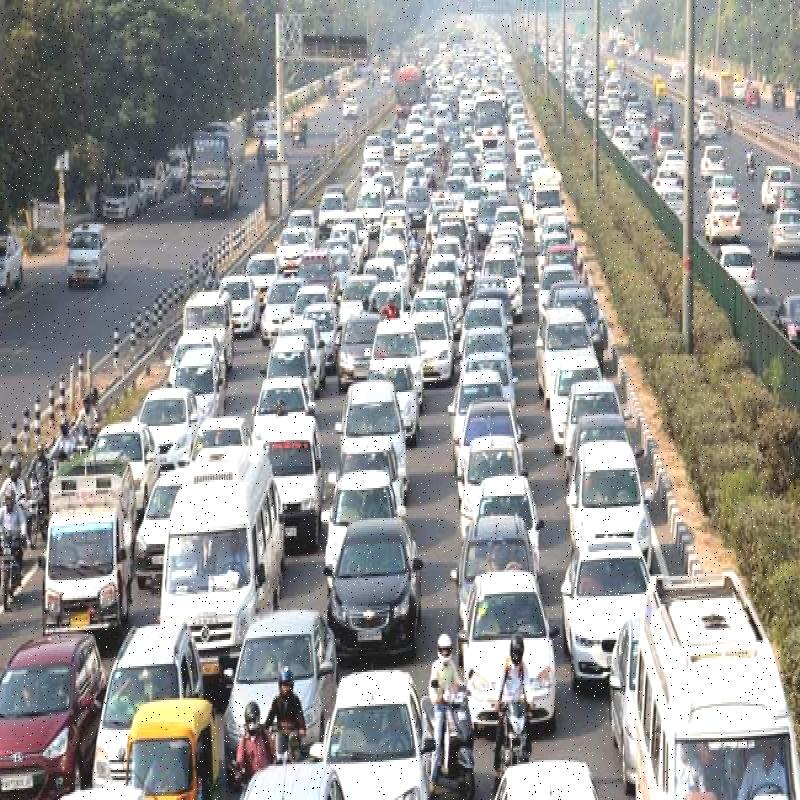auto: (133, 698, 217, 800)
bike: (432, 684, 480, 798), (495, 686, 528, 770)
car: (156, 468, 278, 645), (0, 616, 97, 800), (0, 638, 101, 800), (328, 513, 428, 660), (462, 568, 554, 722), (236, 418, 329, 552), (338, 654, 421, 800), (559, 531, 641, 677), (40, 466, 117, 616), (567, 450, 647, 575), (319, 458, 398, 566), (254, 422, 328, 536), (490, 734, 598, 800), (343, 384, 398, 507), (448, 516, 522, 596), (453, 386, 514, 483), (133, 390, 197, 476), (468, 460, 536, 539), (535, 315, 593, 402), (548, 358, 603, 449), (245, 368, 307, 435), (565, 382, 615, 453), (365, 362, 421, 420), (409, 306, 448, 389), (332, 309, 374, 379), (228, 277, 253, 342)
